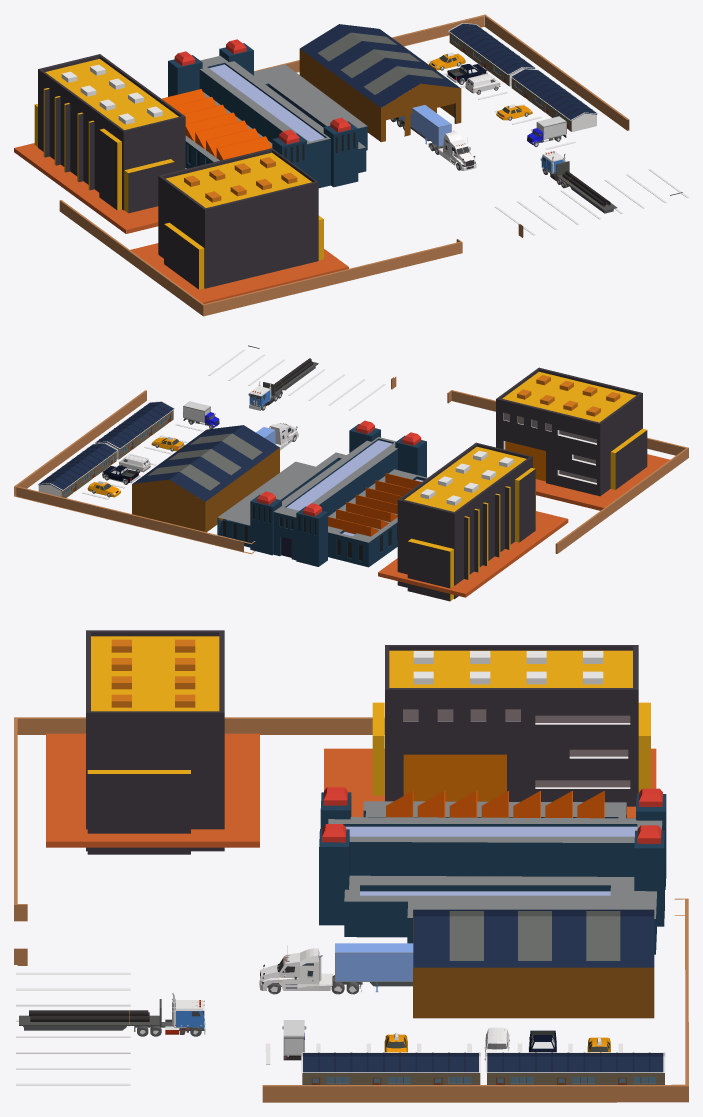
Rendered from manufacture.glb.
3 renders of one model, top to bottom at view 1: azimuth 30°, elevation 25°; view 2: azimuth 150°, elevation 25°; view 3: azimuth 270°, elevation 25°, orthographic. The views are drawn at different scales.
Visible parts, largest first — view 1: Cube.452; view 2: Cube.452; view 3: Cube.452.
Boxes of the visible parts, left/top/right/bottom form: Cube.452: left=14, top=14, right=688, bottom=316; Cube.452: left=14, top=345, right=688, bottom=601; Cube.452: left=14, top=630, right=688, bottom=1102.
Bounding box in the file's own units: 1690 × 301 × 1306.
1 material, 1 textured.
